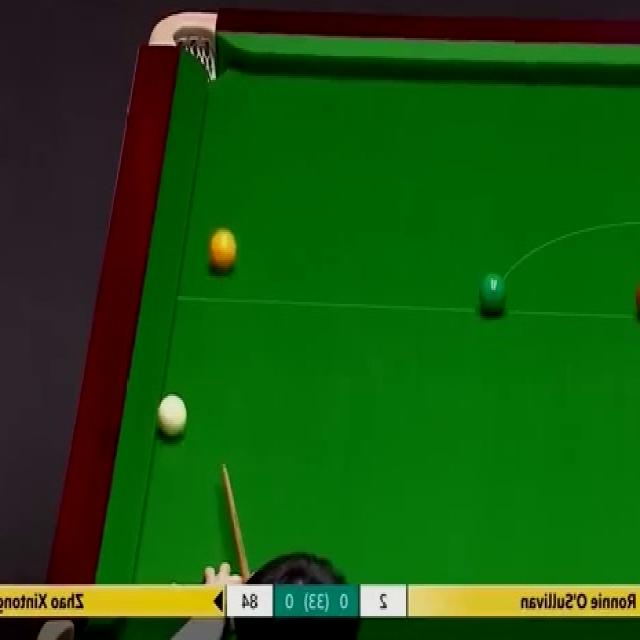green-ball: (479, 272, 508, 317)
white-ball: (158, 394, 187, 438)
yellow-ball: (209, 228, 238, 272)
